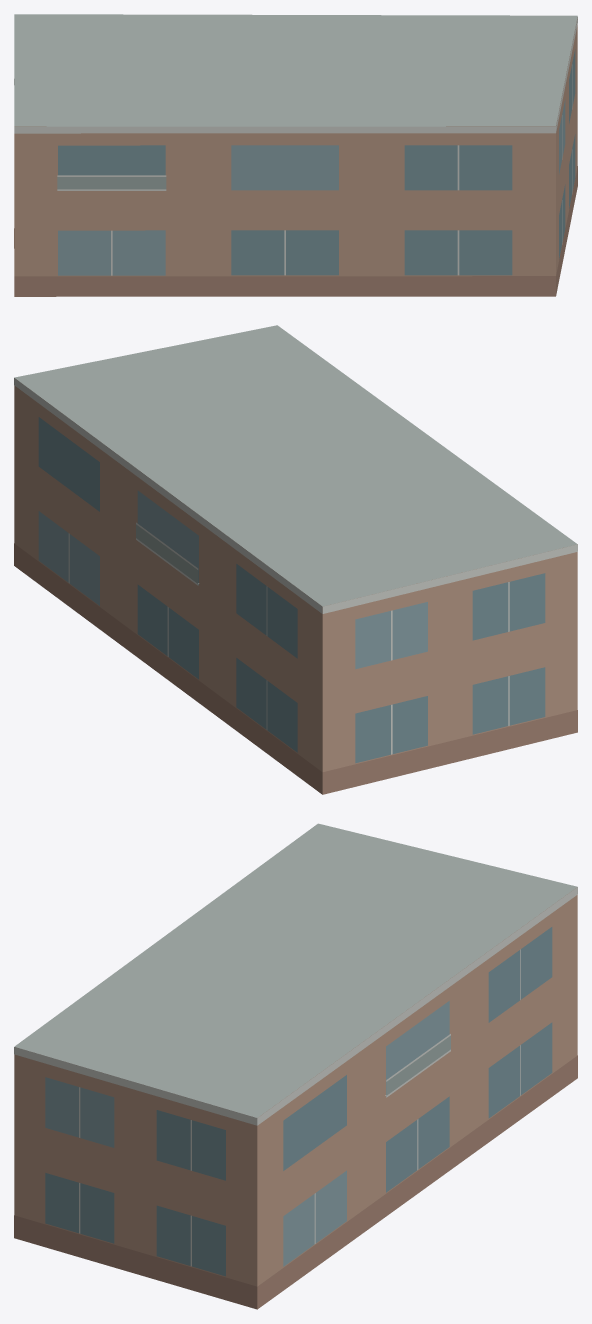
The model's file is survey-upis-32896332.glb.
3 renders of one model, top to bottom at view 1: azimuth 30°, elevation 25°; view 2: azimuth 150°, elevation 25°; view 3: azimuth 270°, elevation 25°, orthographic. The views are drawn at different scales.
Parts seen in each view (by area): view 1: survey-upis-32896332.tmp; view 2: survey-upis-32896332.tmp; view 3: survey-upis-32896332.tmp.
Boxes of the visible parts, left/top/right/bottom form: survey-upis-32896332.tmp: left=14, top=14, right=577, bottom=296; survey-upis-32896332.tmp: left=14, top=325, right=577, bottom=794; survey-upis-32896332.tmp: left=14, top=823, right=577, bottom=1309.
Bounding box in the file's own units: 20.15 × 6.1 × 16.29.
